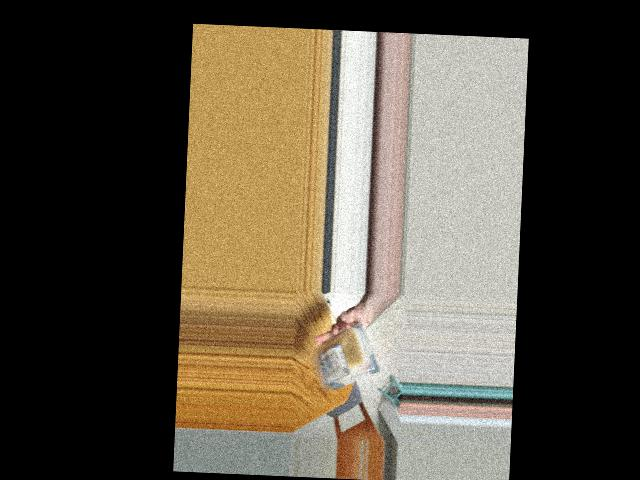cheese: (314, 337, 380, 391)
